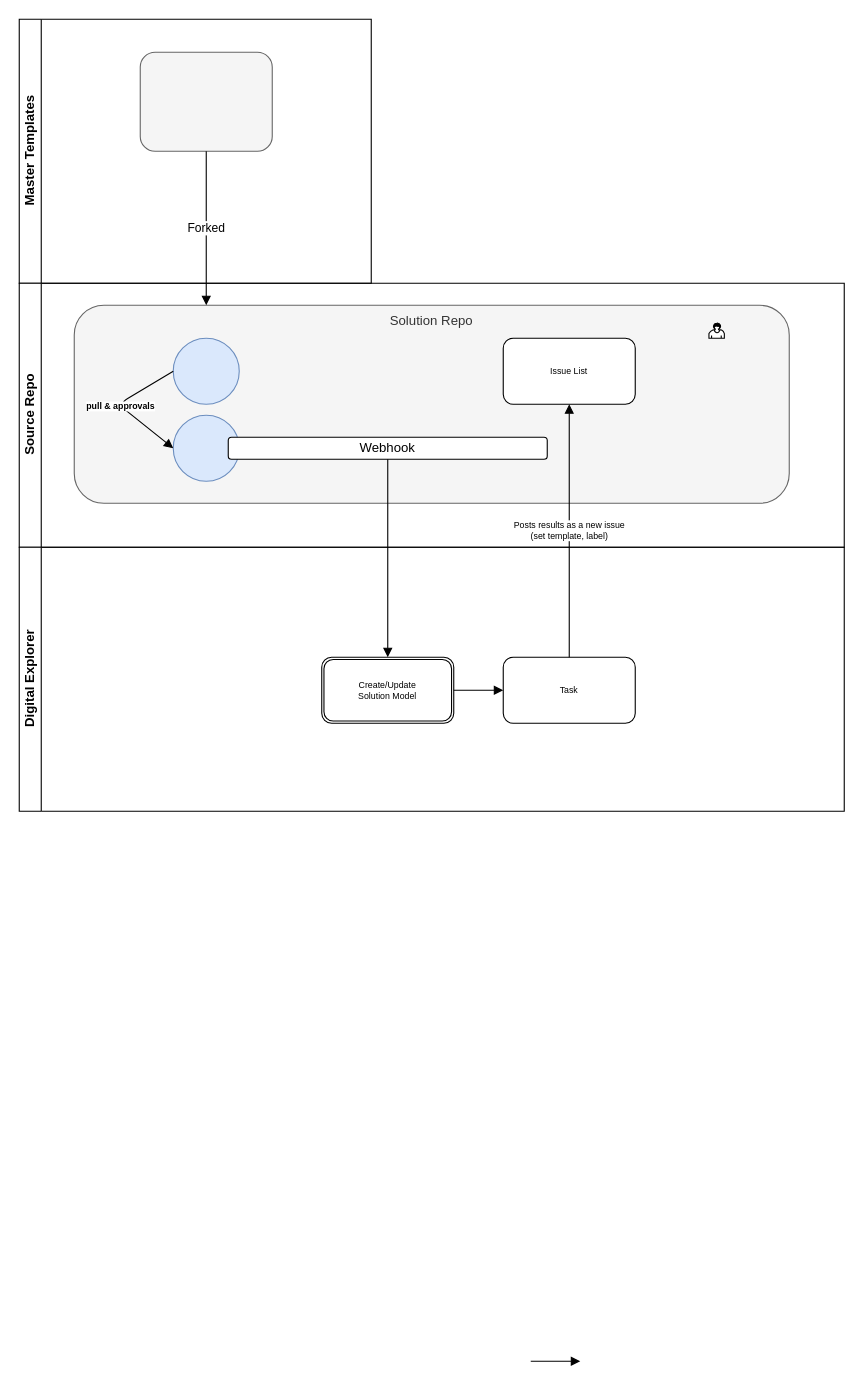
This 864x1389 diagram has some shape labels left out. Here are the shapes that lost their labels. From the top down, the centre of each, then its label:
(205,101): Master Template repo
(716,330): Digital Explorer Technical User
(205,370): Dev Branch
(205,447): Master Branch
